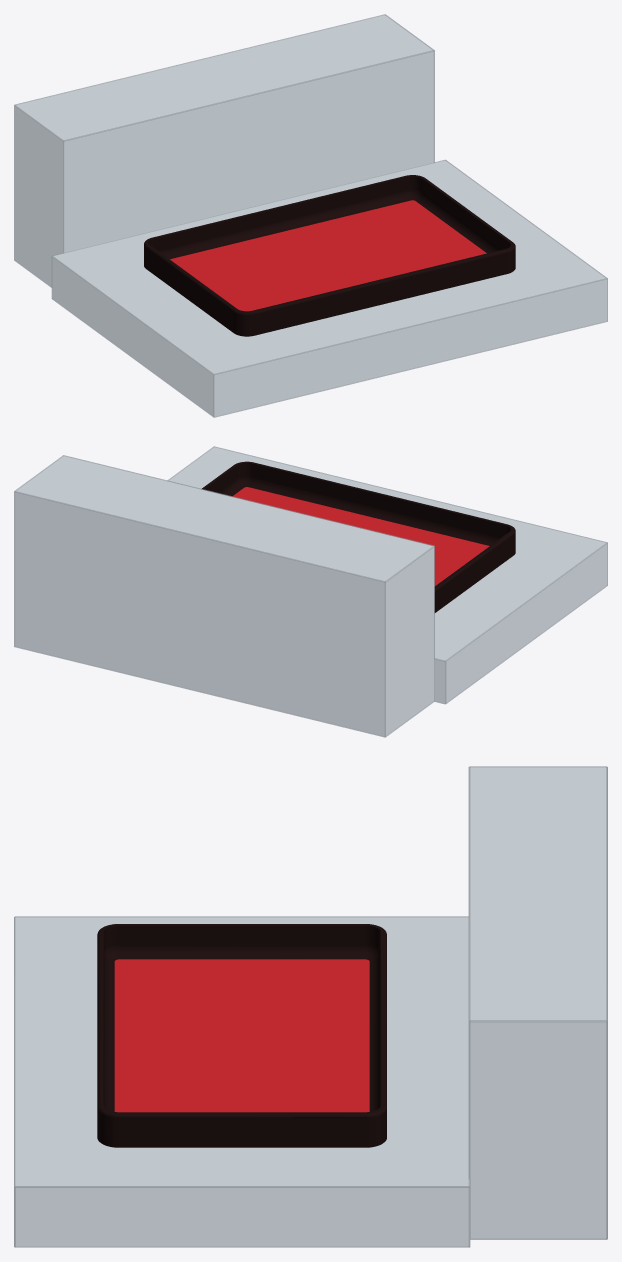
3 views of the same model, one above another, from view 1: azimuth 30°, elevation 25°; view 2: azimuth 150°, elevation 25°; view 3: azimuth 270°, elevation 25° (orthographic). The views are drawn at different scales.
Parts seen in each view (by area): view 1: couch_arm (display prop, not printed), table (display prop, not printed), tray_body, art_red, table edges (display prop, not printed), couch_arm edges (display prop, not printed); view 2: couch_arm (display prop, not printed), table (display prop, not printed), tray_body, art_red, couch_arm edges (display prop, not printed), table edges (display prop, not printed); view 3: table (display prop, not printed), couch_arm (display prop, not printed), art_red, tray_body, table edges (display prop, not printed), couch_arm edges (display prop, not printed).
Part boxes in pixels (x1=…): couch_arm (display prop, not printed): x1=14, y1=15, x2=434, y2=286; table (display prop, not printed): x1=52, y1=160, x2=607, y2=416; tray_body: x1=144, y1=175, x2=515, y2=336; art_red: x1=170, y1=200, x2=486, y2=311; table edges (display prop, not printed): x1=51, y1=159, x2=607, y2=417; couch_arm edges (display prop, not printed): x1=14, y1=14, x2=434, y2=287; couch_arm (display prop, not printed): x1=14, y1=456, x2=434, y2=736; table (display prop, not printed): x1=168, y1=447, x2=607, y2=703; tray_body: x1=202, y1=461, x2=515, y2=612; art_red: x1=232, y1=487, x2=489, y2=585; couch_arm edges (display prop, not printed): x1=14, y1=455, x2=434, y2=737; table edges (display prop, not printed): x1=167, y1=446, x2=607, y2=704; table (display prop, not printed): x1=15, y1=917, x2=469, y2=1246; couch_arm (display prop, not printed): x1=469, y1=767, x2=606, y2=1238; art_red: x1=114, y1=959, x2=369, y2=1112; tray_body: x1=97, y1=924, x2=386, y2=1147; table edges (display prop, not printed): x1=14, y1=916, x2=470, y2=1247; couch_arm edges (display prop, not printed): x1=468, y1=766, x2=607, y2=1239.
Size of the model in its own units: 349 by 132 by 324.
